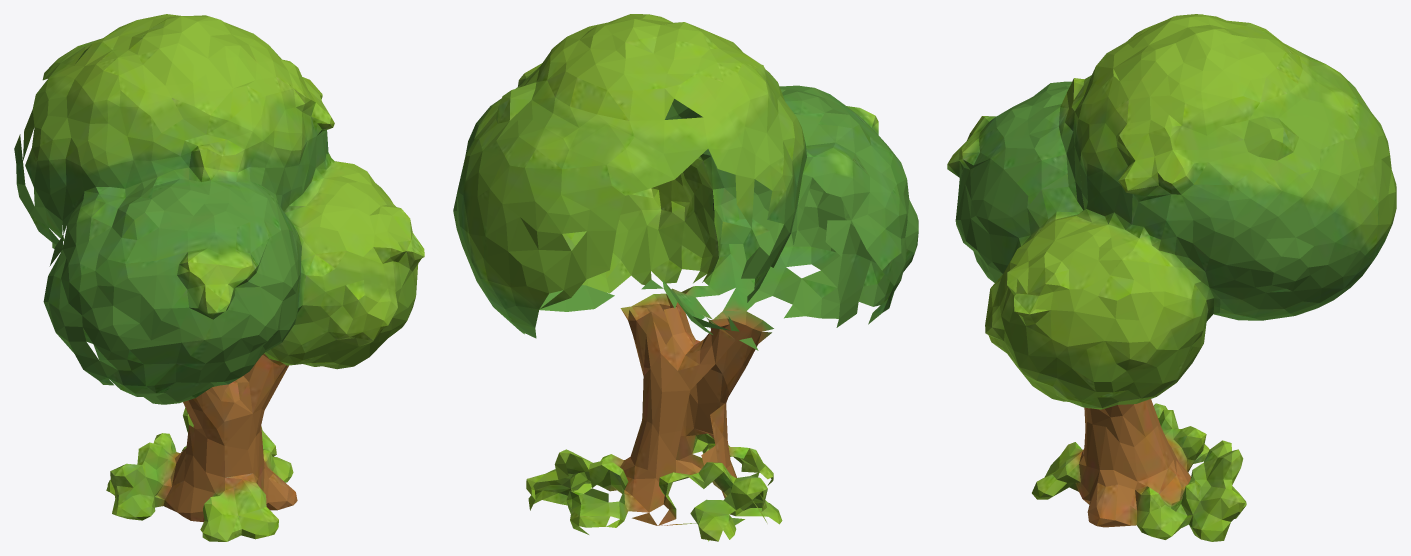
Rendered from M-6_01_tree_a.glb.
The picture shows the model from 3 angles, left to right: view 1: azimuth 30°, elevation 25°; view 2: azimuth 150°, elevation 25°; view 3: azimuth 270°, elevation 25°; orthographic projection. The views are drawn at different scales.
Parts seen in each view (by area): view 1: loA; view 2: loA; view 3: loA.
Part boxes in pixels (x1,y1,x2,y2): loA: [14, 14, 424, 541]; loA: [453, 14, 918, 541]; loA: [947, 14, 1396, 541].
Size of the model in its own units: 5.67 by 7.02 by 6.06.
Materials: 1 (1 with a texture image).
